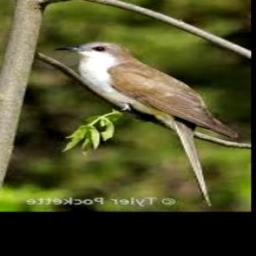Cuckoo: (53, 42, 239, 138)
